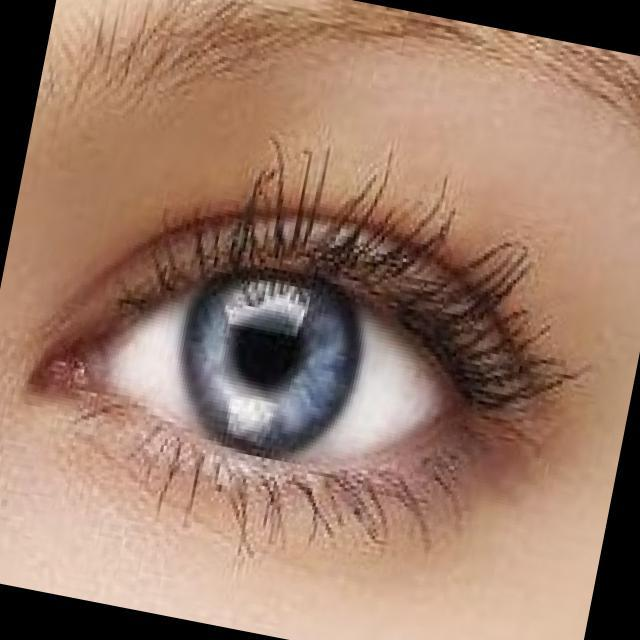Normal: (38, 173, 614, 550)
